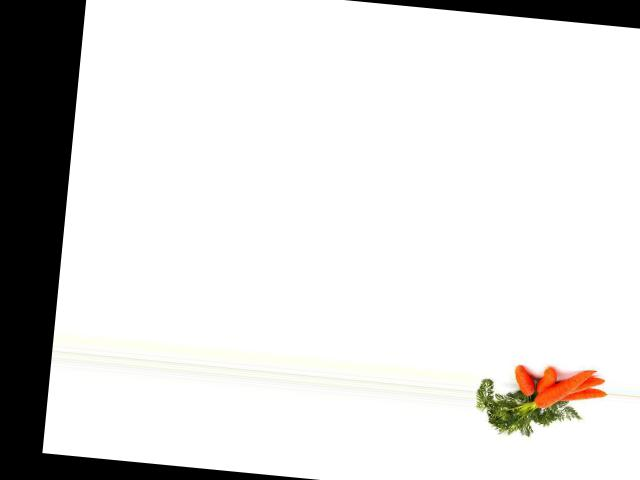carrot: (525, 361, 594, 417)
